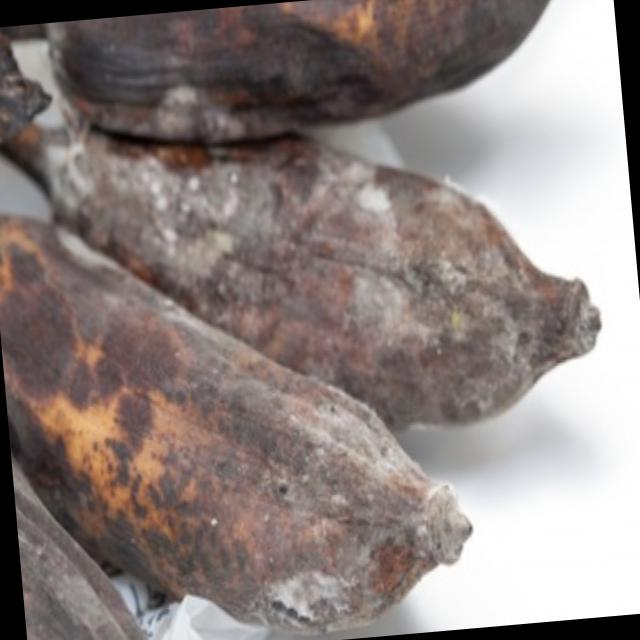rotten-banana: (0, 172, 463, 640), (112, 80, 607, 413)
